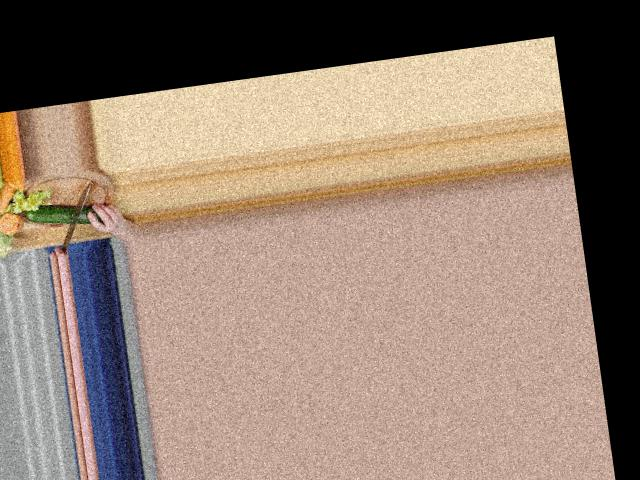cucumber: (23, 198, 102, 232)
